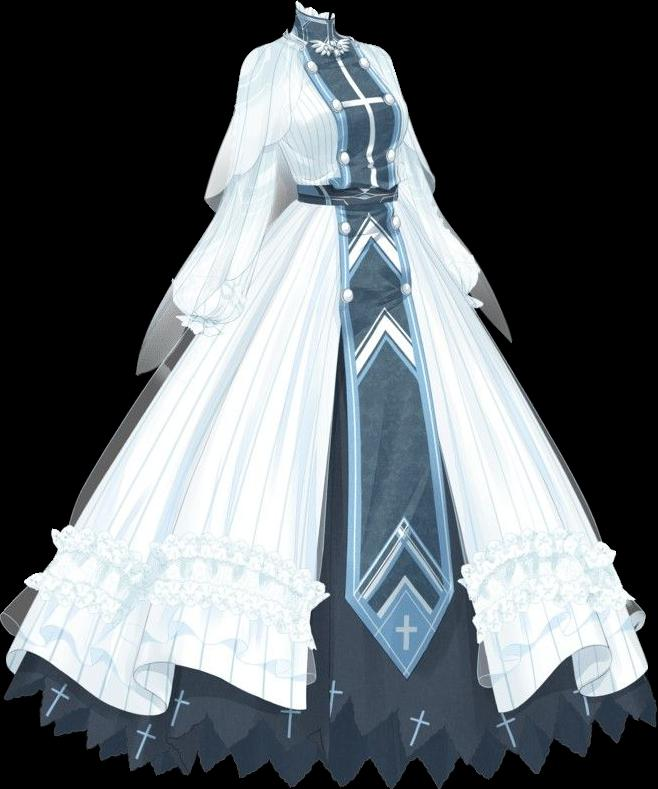Bodice: (270, 1, 403, 205)
Hemline: (2, 215, 346, 722), (393, 218, 650, 716), (2, 685, 657, 788), (335, 208, 459, 682)
Neckline: (286, 29, 344, 50), (293, 3, 335, 24)
Skirt: (0, 201, 657, 788)
Sleeve: (166, 44, 287, 337)
Sleeveline: (266, 45, 292, 143)
Waistline: (203, 132, 276, 203), (297, 194, 402, 212)
